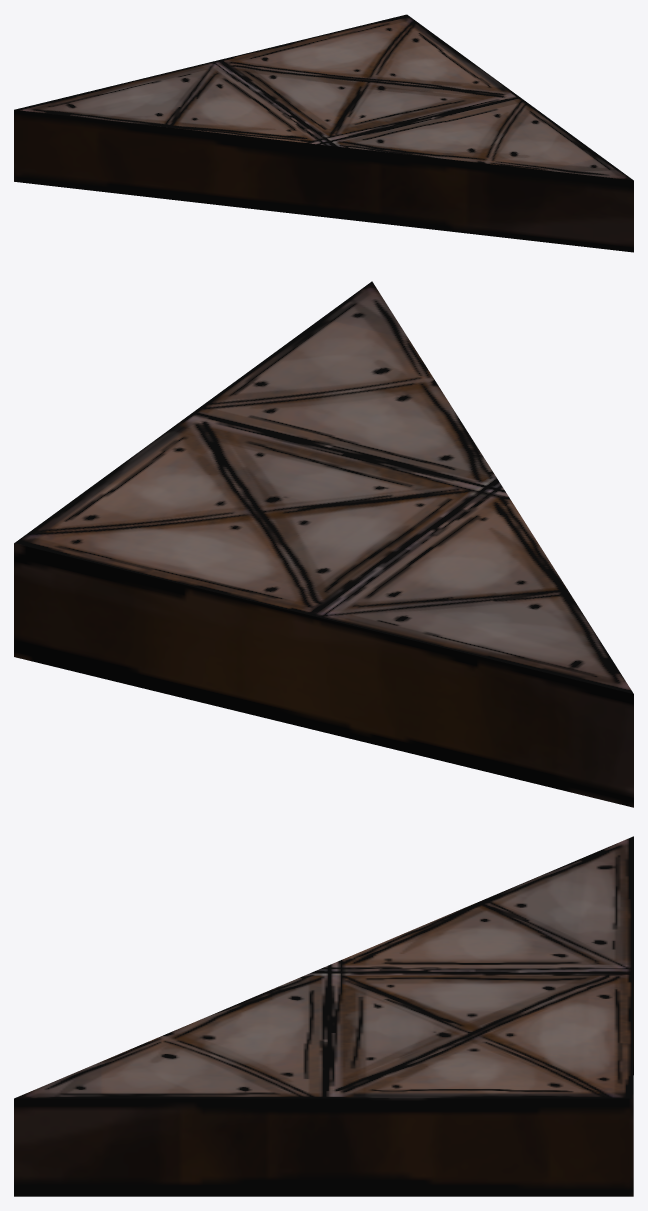
The model's file is floor_triangle.fbx.
3 views of the same model, one above another, from view 1: azimuth 30°, elevation 25°; view 2: azimuth 150°, elevation 25°; view 3: azimuth 270°, elevation 25° (orthographic). The views are drawn at different scales.
Visible parts, largest first — view 1: floor_triangle; view 2: floor_triangle; view 3: floor_triangle.
Boxes of the visible parts, <box> form: floor_triangle: <box>14,14,633,252</box>; floor_triangle: <box>14,281,633,807</box>; floor_triangle: <box>14,836,633,1196</box>.
Bounding box in the file's own units: 10 × 1.76 × 10.01.
